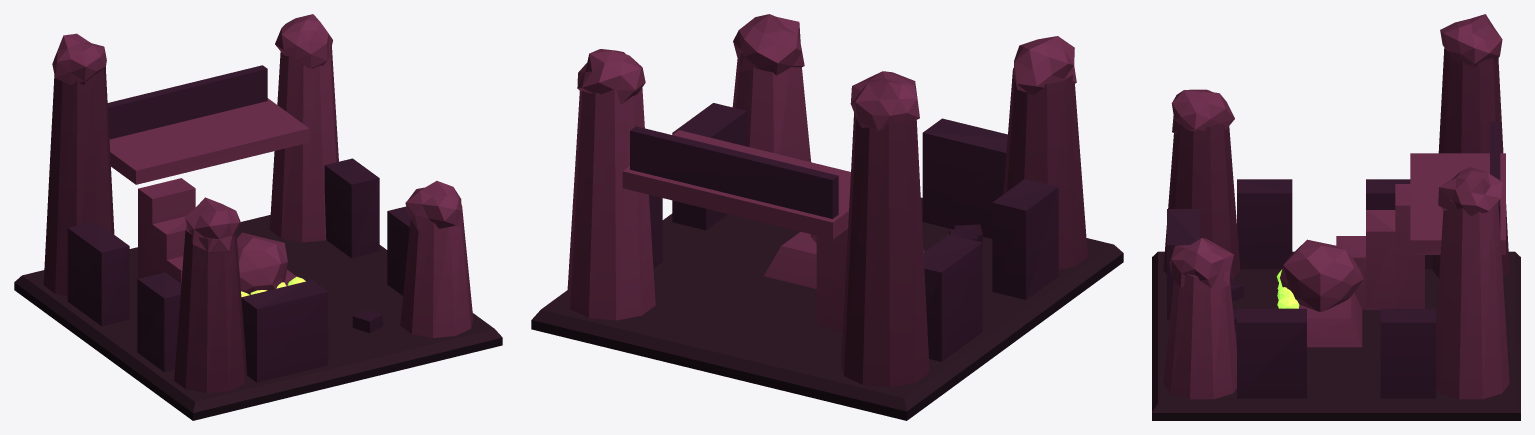
File: creep-sac-hall.glb
The picture shows the model from 3 angles, left to right: view 1: azimuth 30°, elevation 25°; view 2: azimuth 150°, elevation 25°; view 3: azimuth 270°, elevation 25°; orthographic projection. The views are drawn at different scales.
Bounding box in the file's own units: 5 × 4 × 5.
